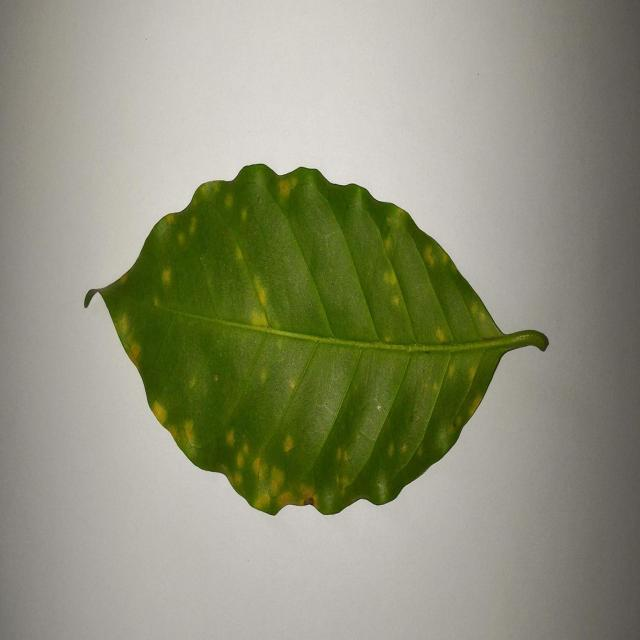rust: (113, 309, 144, 376), (253, 452, 282, 515), (148, 396, 177, 444), (274, 173, 300, 210), (298, 481, 325, 513), (461, 388, 486, 422), (276, 491, 301, 511), (248, 306, 268, 329), (282, 428, 296, 454)
